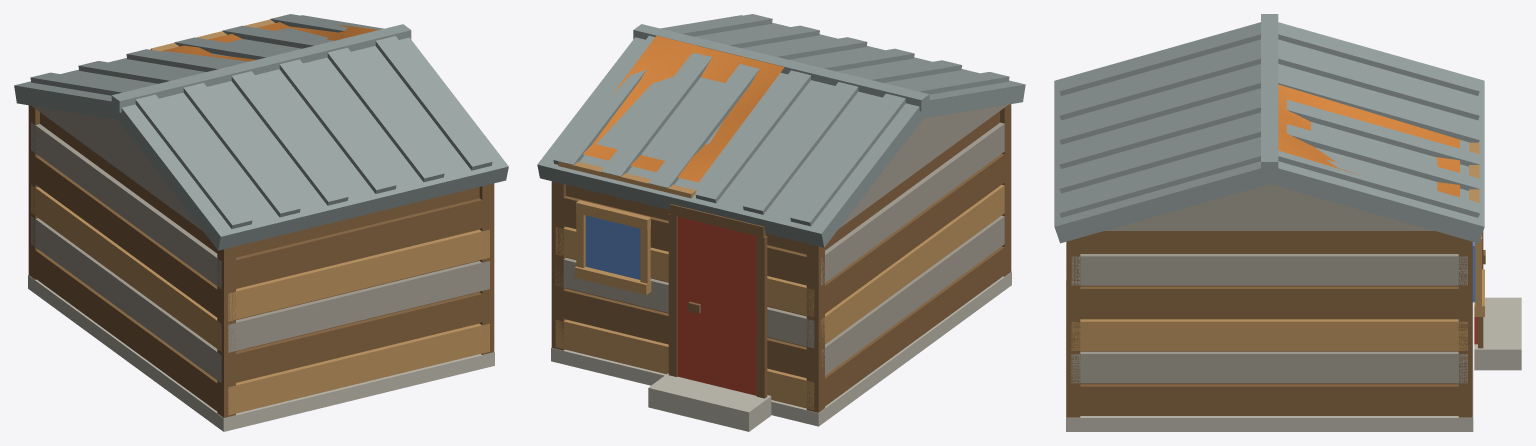
File: cabane-bois-a.glb
The picture shows the model from 3 angles, left to right: view 1: azimuth 30°, elevation 25°; view 2: azimuth 150°, elevation 25°; view 3: azimuth 270°, elevation 25°; orthographic projection. The views are drawn at different scales.
Parts seen in each view (by area): view 1: toit-pan-1, arriere-planche-1, arriere-planche-0, arriere-planche-2, arriere-planche-4, arriere-planche-3, socle, gauche-planche-4, gauche-planche-1, gauche-planche-2, gauche-planche-0, gauche-planche-3 (+21 smaller); view 2: toit-pan-0, porte-panneau, bache, gauche-planche-4, gauche-planche-0, gauche-planche-2, gauche-planche-3, gauche-planche-1, socle, toit-pan-1, facade-planche-0, facade-planche-1 (+32 smaller); view 3: toit-pan-1, toit-pan-0, droit-planche-1, droit-planche-3, droit-planche-0, droit-planche-2, droit-planche-4, droit-fond, pignon-1, socle, bache, toit-nerv-11 (+15 smaller).
Part boxes in pixels (x1,y1,x2,y2): toit-pan-1: [117, 37, 508, 250]; arriere-planche-1: [228, 292, 489, 383]; arriere-planche-0: [228, 323, 489, 415]; arriere-planche-2: [228, 261, 489, 352]; arriere-planche-4: [228, 198, 489, 289]; arriere-planche-3: [228, 229, 489, 321]; socle: [28, 275, 494, 431]; gauche-planche-4: [31, 122, 221, 289]; gauche-planche-1: [31, 216, 221, 383]; gauche-planche-2: [31, 185, 221, 351]; gauche-planche-0: [31, 247, 221, 414]; gauche-planche-3: [31, 153, 221, 320]; toit-pan-0: [537, 37, 923, 247]; porte-panneau: [677, 217, 756, 395]; bache: [583, 35, 784, 182]; gauche-planche-4: [820, 122, 1004, 285]; gauche-planche-0: [820, 246, 1004, 409]; gauche-planche-2: [820, 184, 1004, 345]; gauche-planche-3: [821, 154, 1004, 315]; gauche-planche-1: [821, 215, 1004, 375]; socle: [551, 271, 1011, 426]; toit-pan-1: [660, 15, 1025, 118]; facade-planche-0: [555, 319, 814, 410]; facade-planche-1: [555, 288, 814, 379]; toit-pan-1: [1054, 22, 1271, 243]; toit-pan-0: [1267, 22, 1484, 243]; droit-planche-1: [1071, 351, 1467, 383]; droit-planche-3: [1071, 286, 1467, 318]; droit-planche-0: [1071, 384, 1467, 415]; droit-planche-2: [1071, 319, 1467, 350]; droit-planche-4: [1071, 254, 1467, 285]; droit-fond: [1080, 231, 1458, 384]; pignon-1: [1105, 184, 1433, 230]; socle: [1066, 280, 1473, 431]; bache: [1278, 84, 1459, 197]; toit-nerv-11: [1059, 48, 1260, 120].
Bounding box in the file's own units: 0.15 × 0.13 × 0.2.
